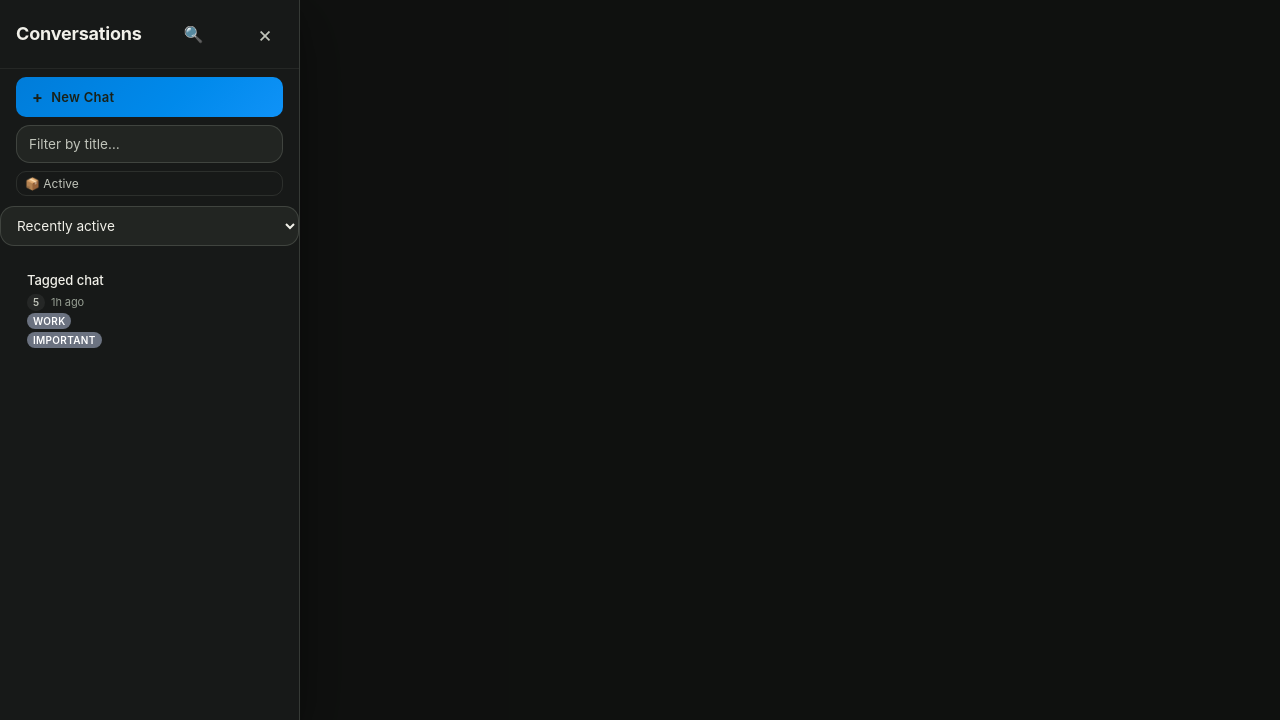
it: ConversationSidebar — tags › context menu has tag options
Right-click the element with class "conversation-item" at (65, 310), box [27, 272, 104, 348]
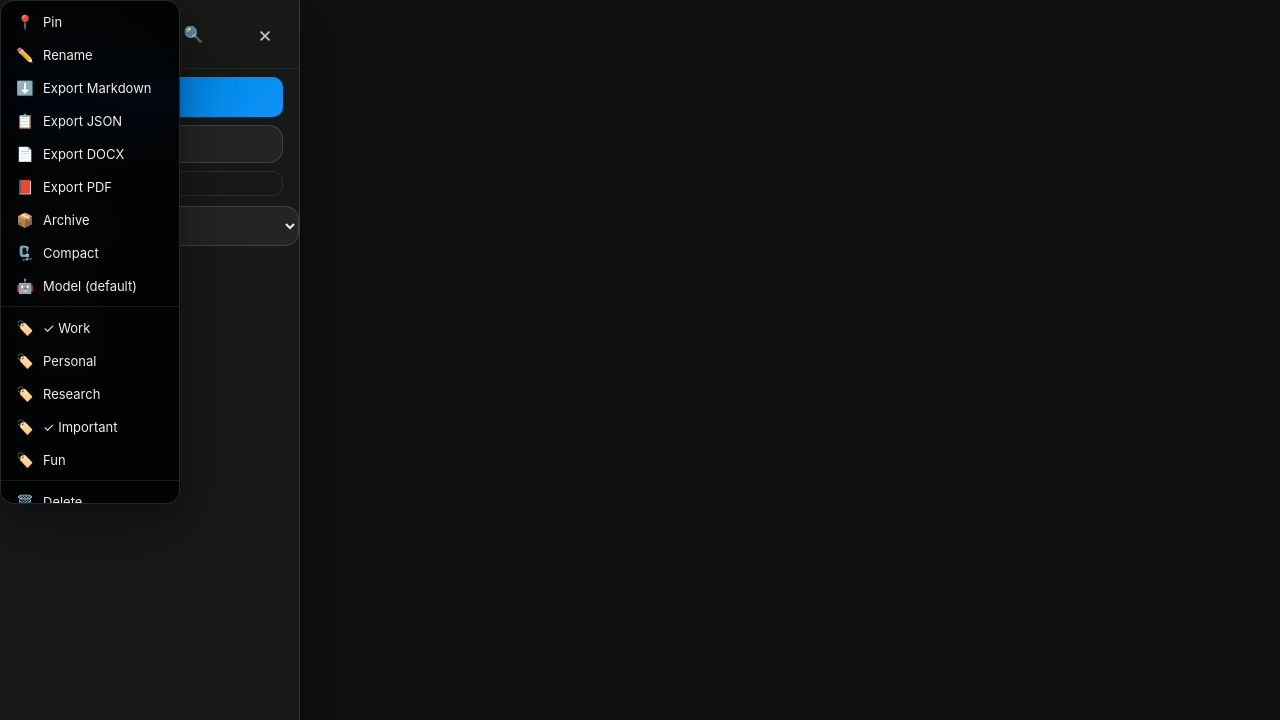
Result: the menu item "🏷️ ✓ Work" is shown at [1, 311, 179, 344]
Result: the menu item "🏷️ ✓ Important" is shown at [1, 410, 179, 443]
Result: the menu item "🏷️ Personal" is shown at [1, 344, 179, 377]
